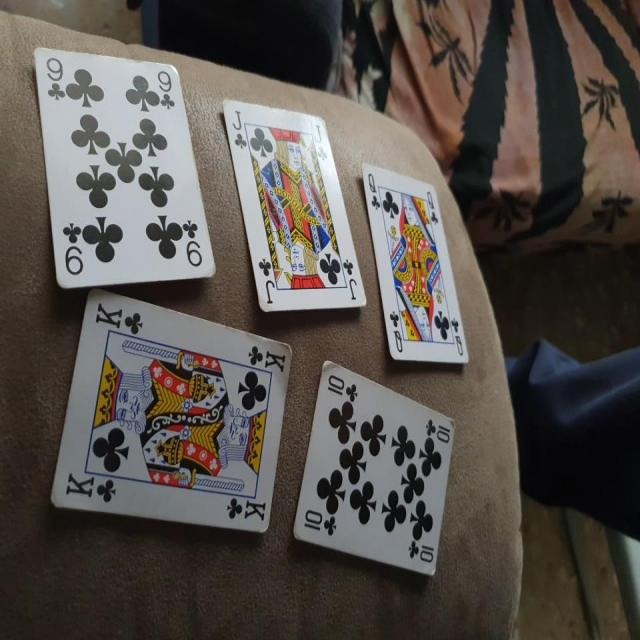10 Trefoils: (290, 357, 455, 576)
9 Trefoils: (31, 43, 218, 290)
J Trefoils: (217, 93, 370, 314)
K Trefoils: (48, 287, 294, 534)
Q Trefoils: (361, 159, 470, 367)
